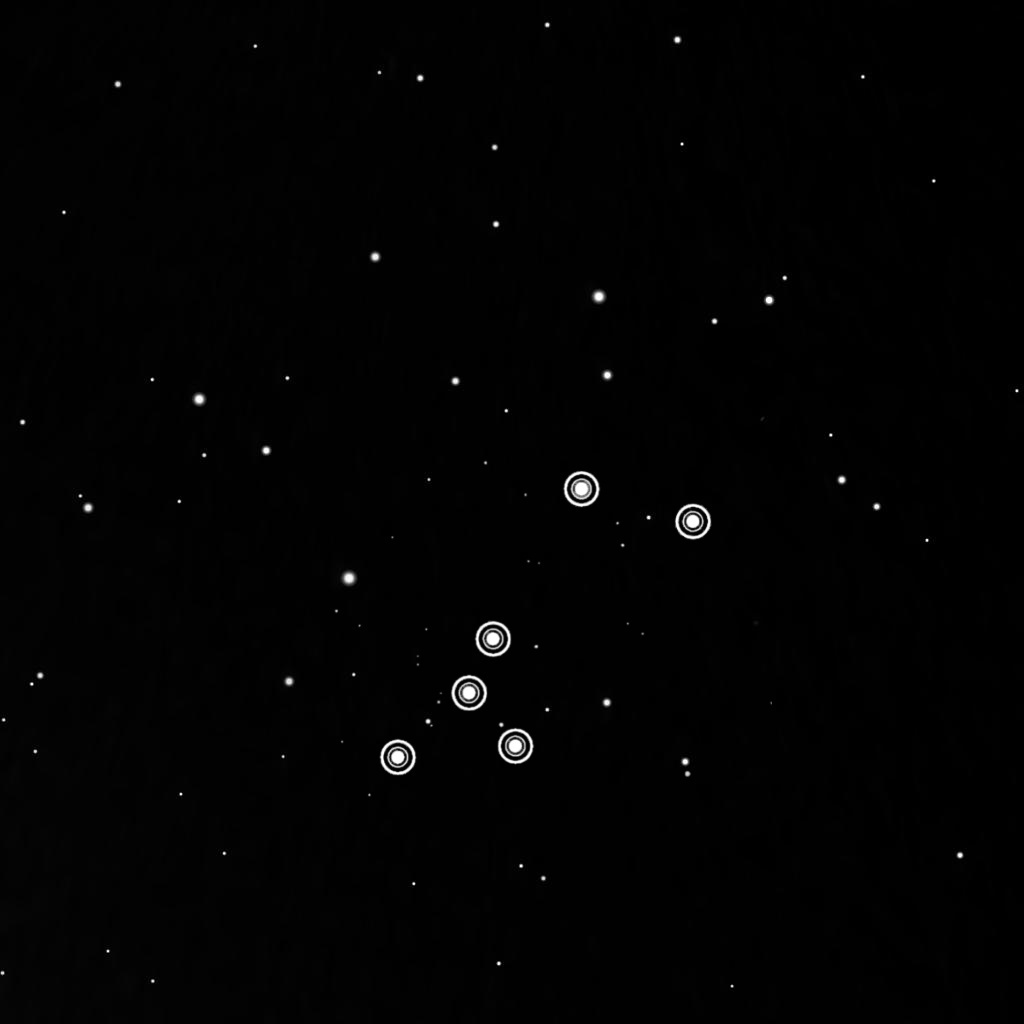canis_major: (370, 461, 716, 785)
